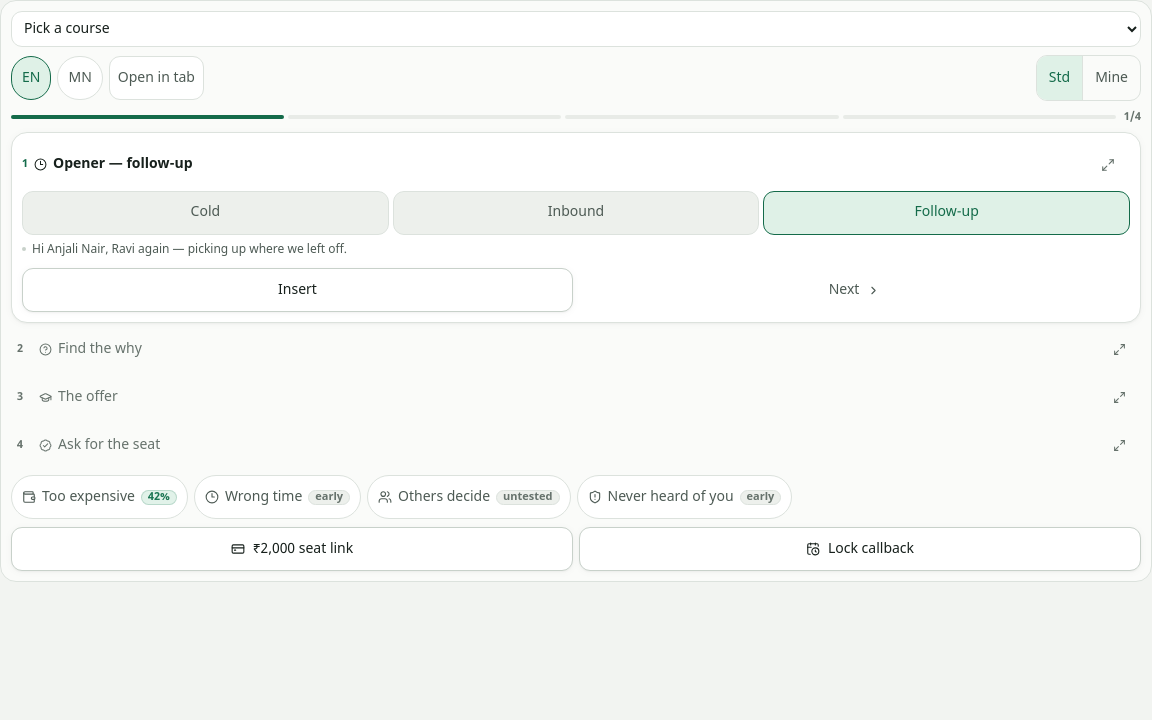
Test: CallHud layout › AT-05: the panel keeps its single column — a rebuttal REPLACES the roadmap
Expected: the heading "Opener — follow-up" is shown, x1=53 y1=154 x2=193 y2=174
Click the button "Too expensive 42%" at (99, 497), box x1=11 y1=475 x2=188 y2=519
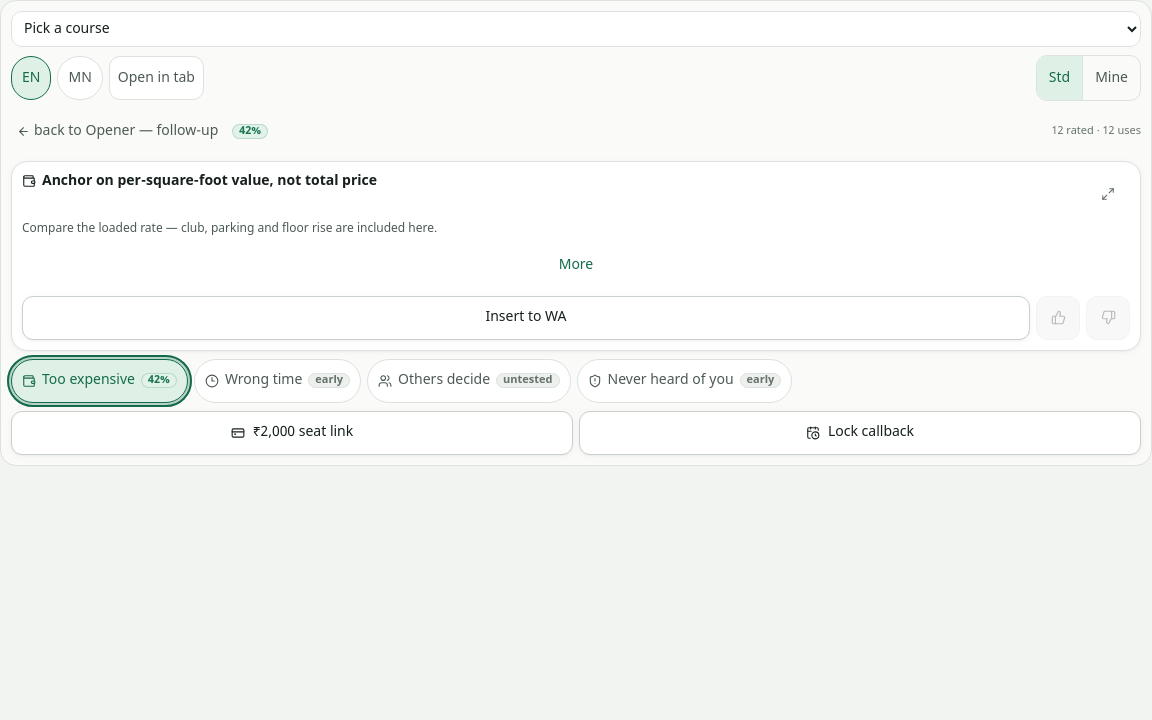
Result: the heading "Anchor on per-square-foot value, not total price" is shown at x1=42 y1=172 x2=377 y2=191
Result: the text "picking up where we left off" is gone
